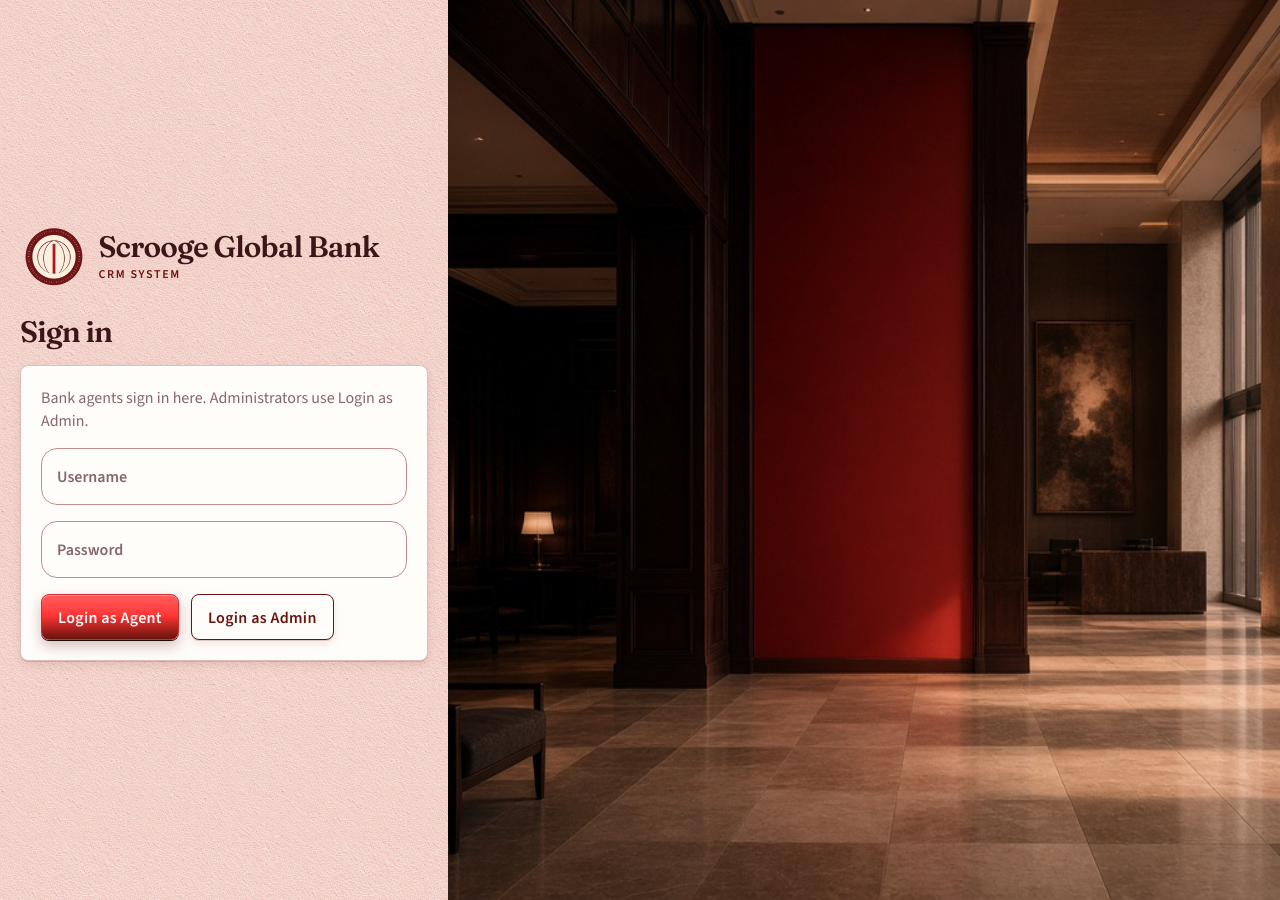
Scenario: CRM wireframe › opens the agent dashboard after login
This screenshot has width=1280, height=900.
Type "jdoe" into the field labelled "Username" at (224,477), box [41,448,407,505]
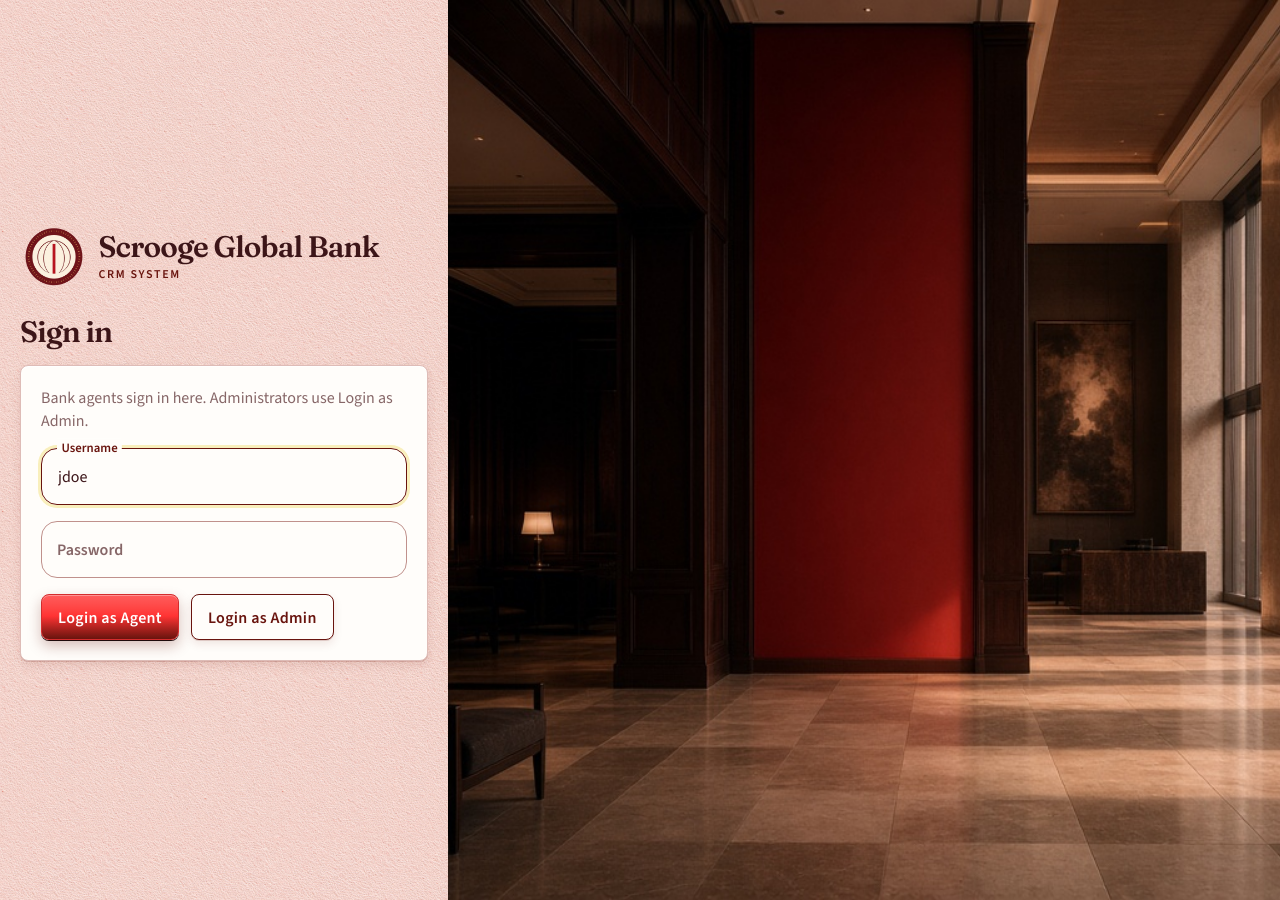
Type "password" into the password field labelled "Password" at (224,550), box [41,521,407,578]
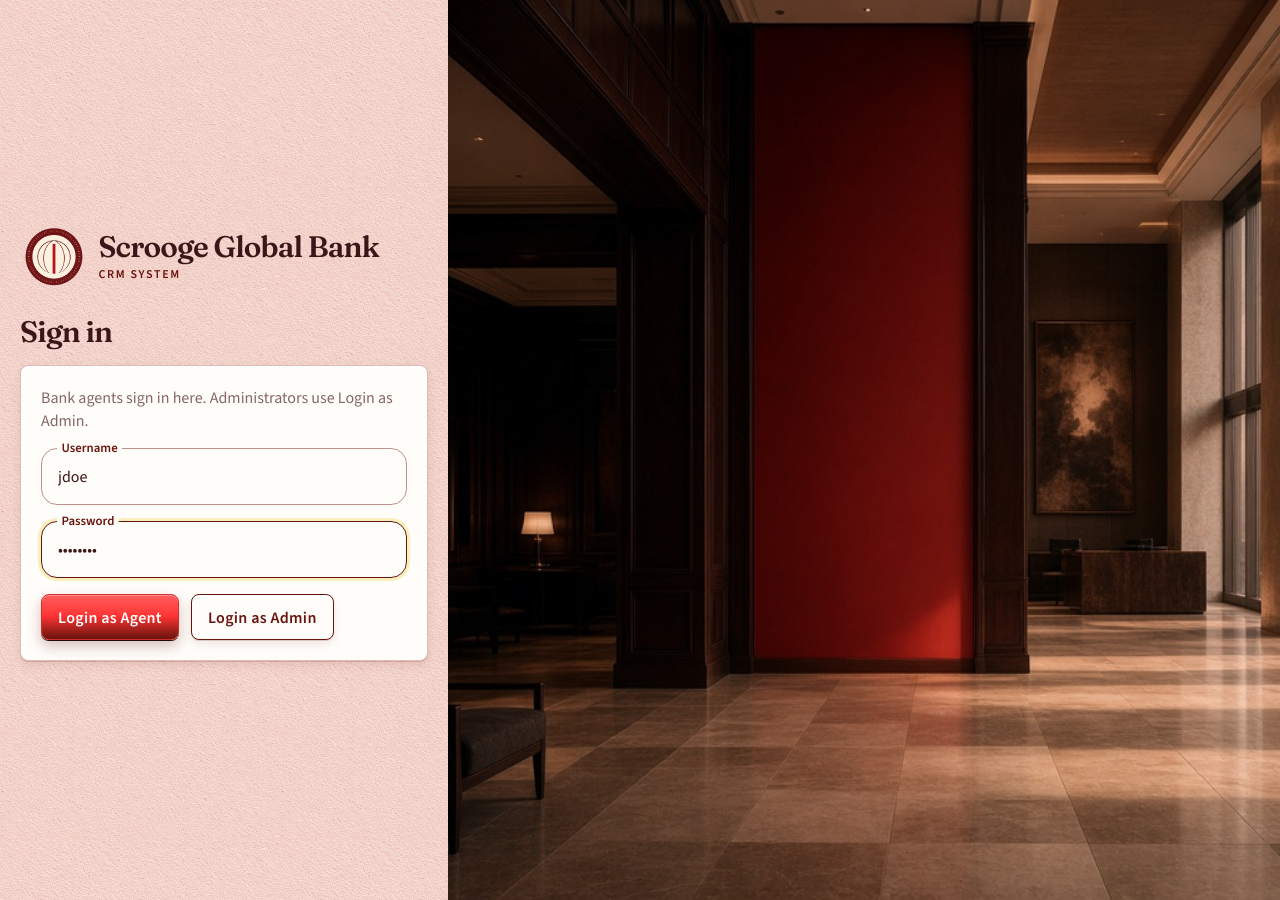
Click the button "Login as Agent" at (110,617), box [41,594,179,640]
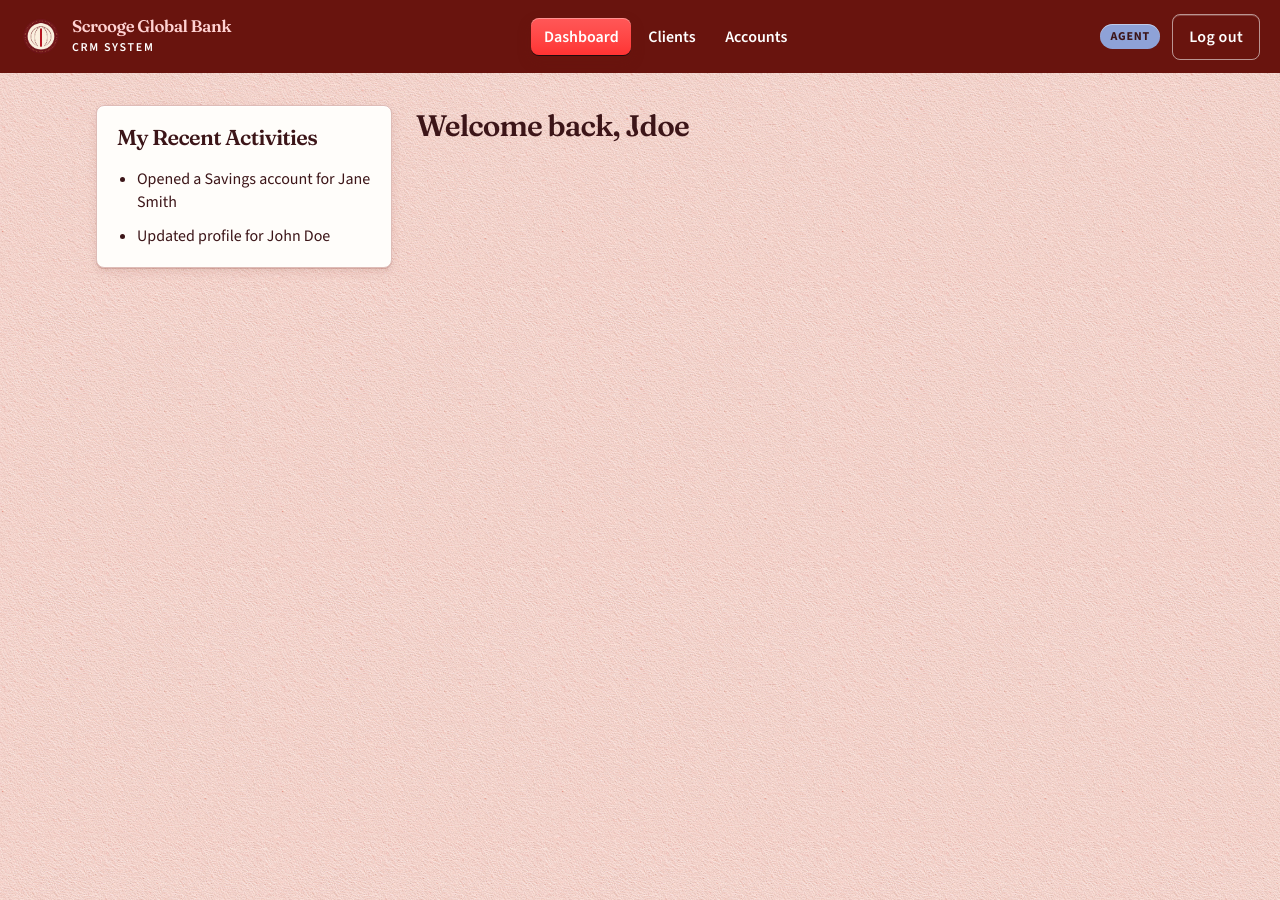
Expected: the heading "Welcome back, Jdoe" is shown, [416,107,689,144]
Expected: the heading "My Recent Activities" is shown, [117,124,317,151]
Expected: the link "Clients" is shown, [648,26,696,47]
